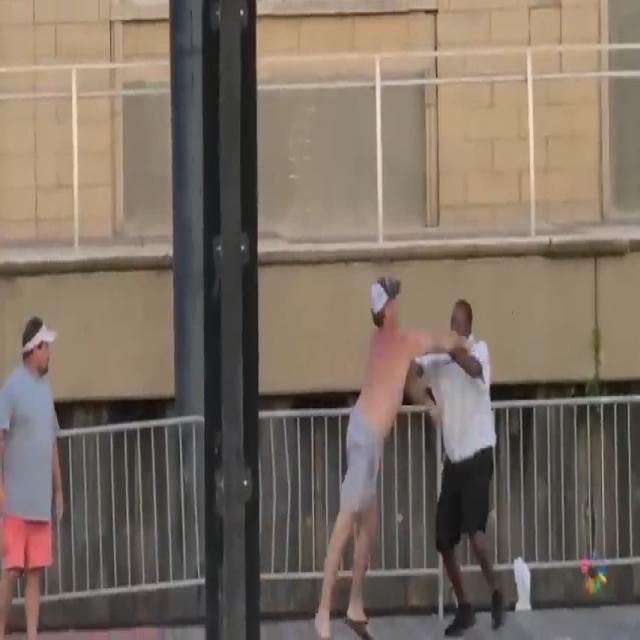fight: (312, 268, 508, 640)
non-fight: (0, 313, 65, 640)
